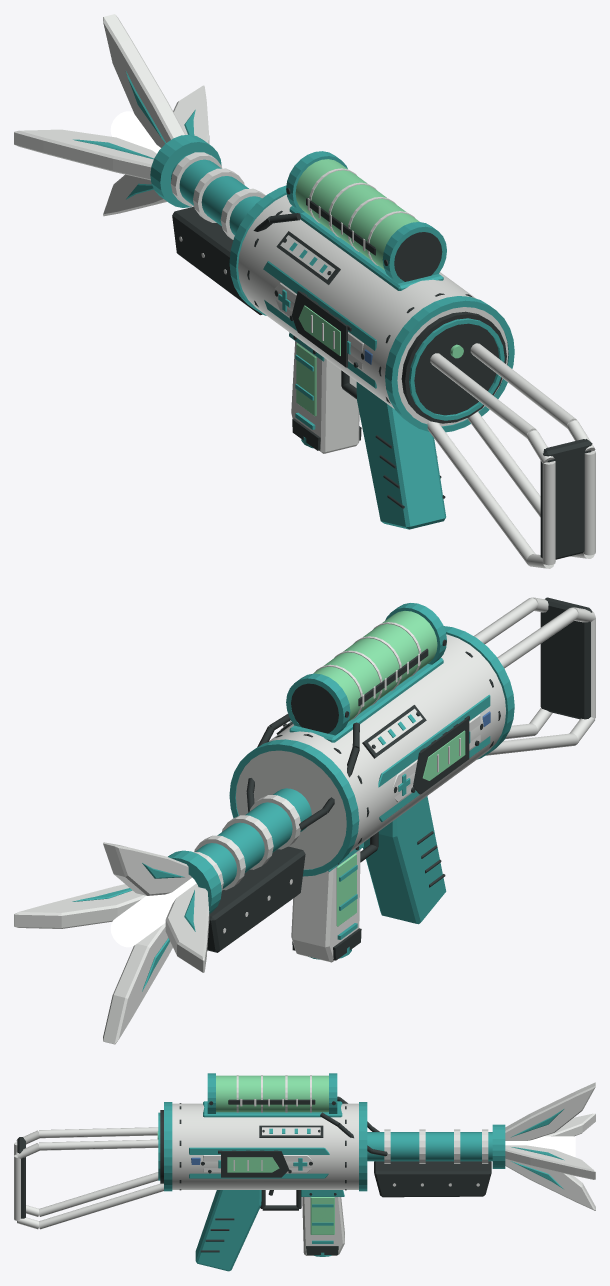
The model's file is medic_2.glb.
3 renders of one model, top to bottom at view 1: azimuth 30°, elevation 25°; view 2: azimuth 150°, elevation 25°; view 3: azimuth 270°, elevation 25°, orthographic. The views are drawn at different scales.
Visible parts, largest first — view 1: Weapon_medic_v1; view 2: Weapon_medic_v1; view 3: Weapon_medic_v1.
Boxes of the visible parts, x1,y1,x2,y2 form: Weapon_medic_v1: [14, 14, 595, 568]; Weapon_medic_v1: [14, 597, 595, 1044]; Weapon_medic_v1: [14, 1073, 595, 1271].
Size of the model in its own units: 0.1982 by 0.3022 by 0.8351.
